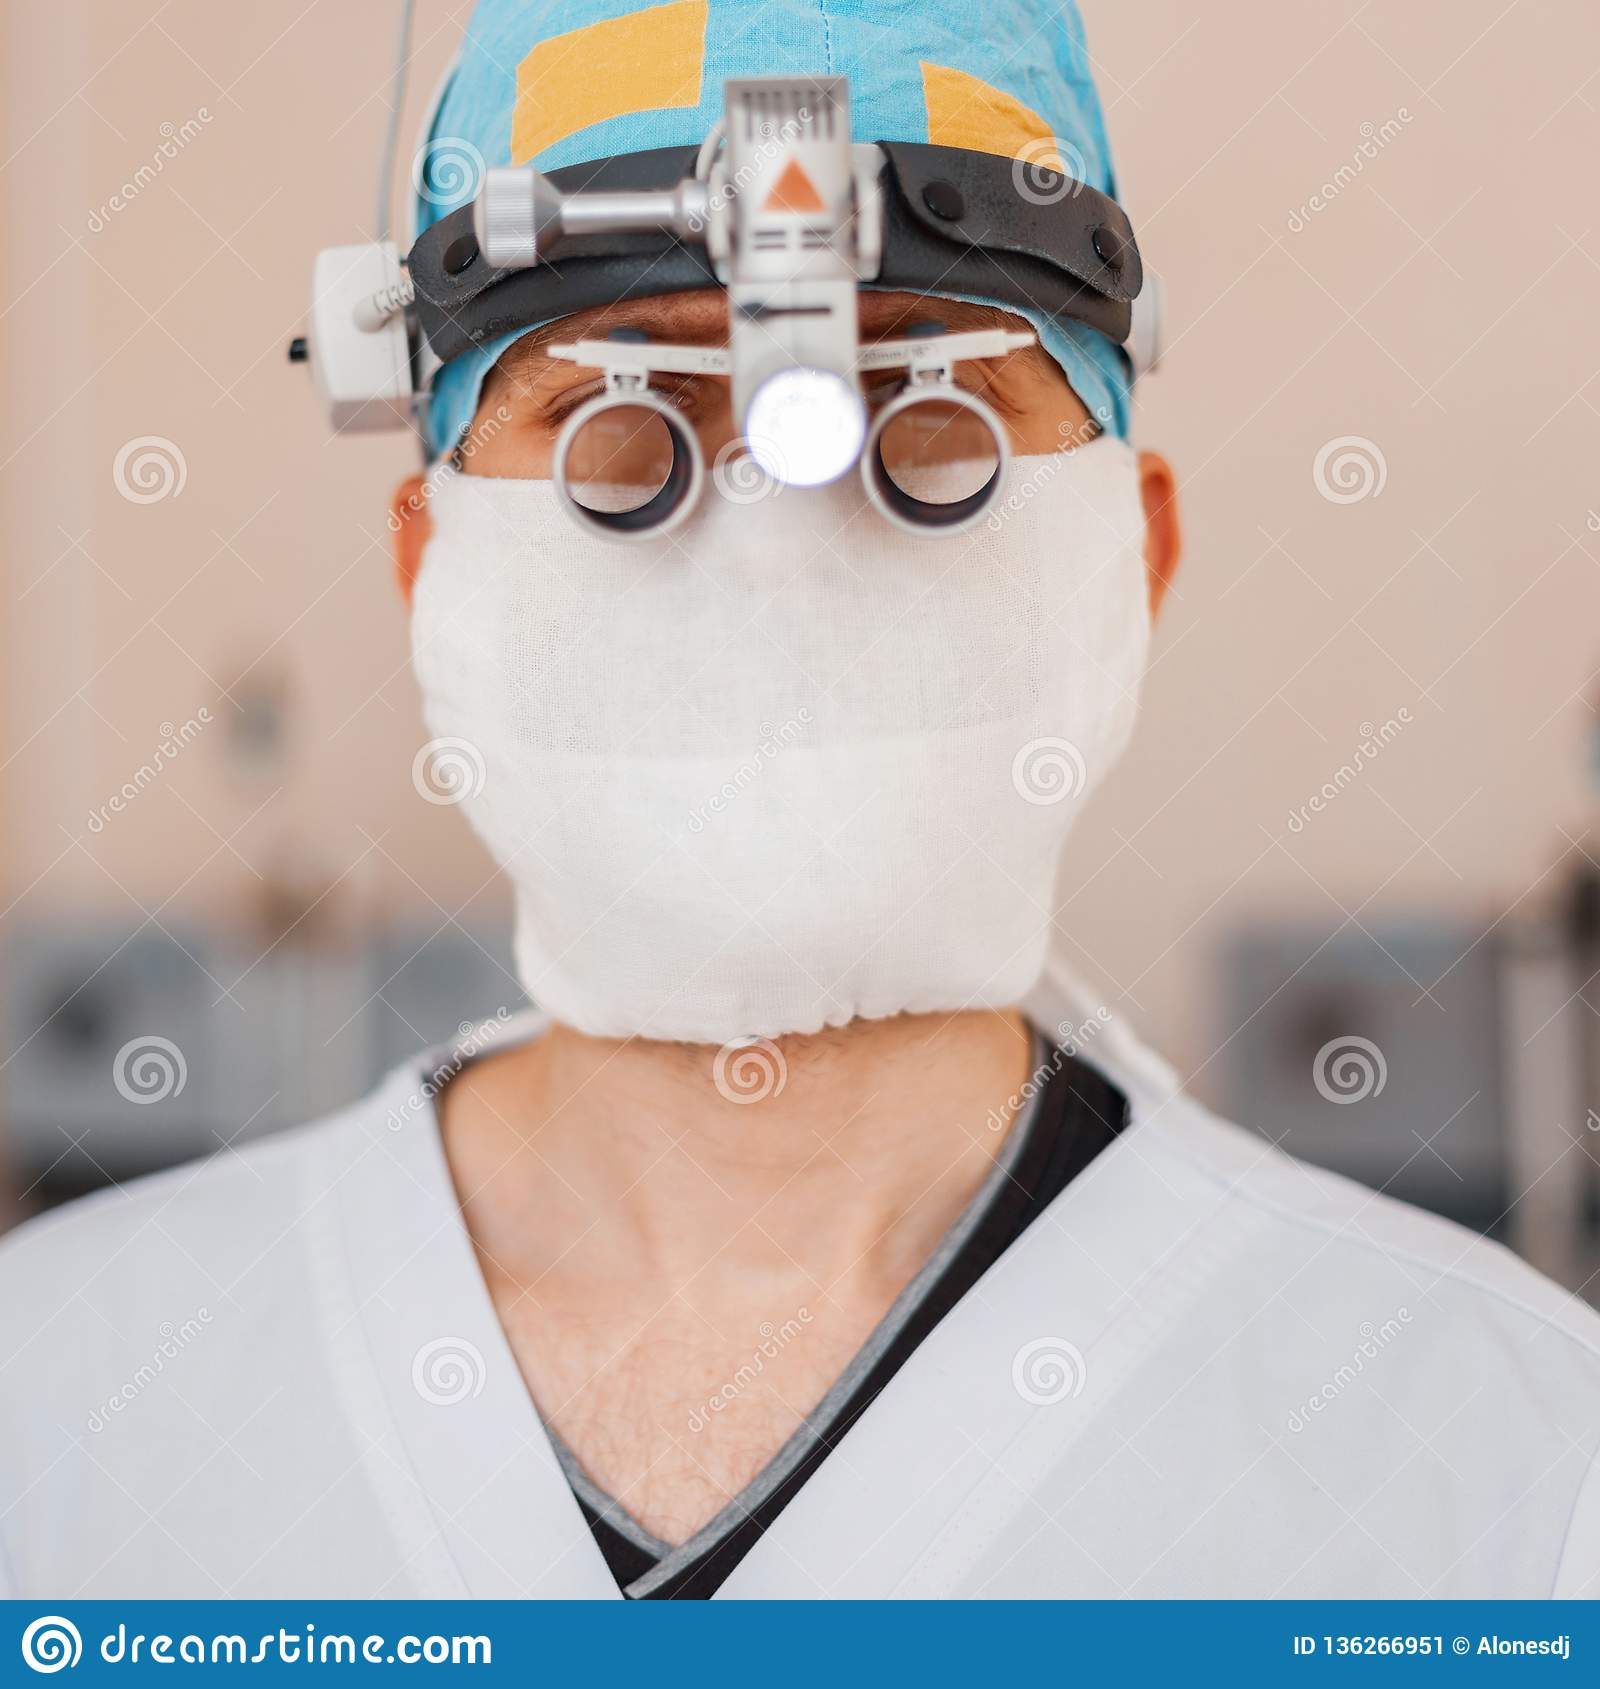mask: (408, 454, 1155, 1035)
